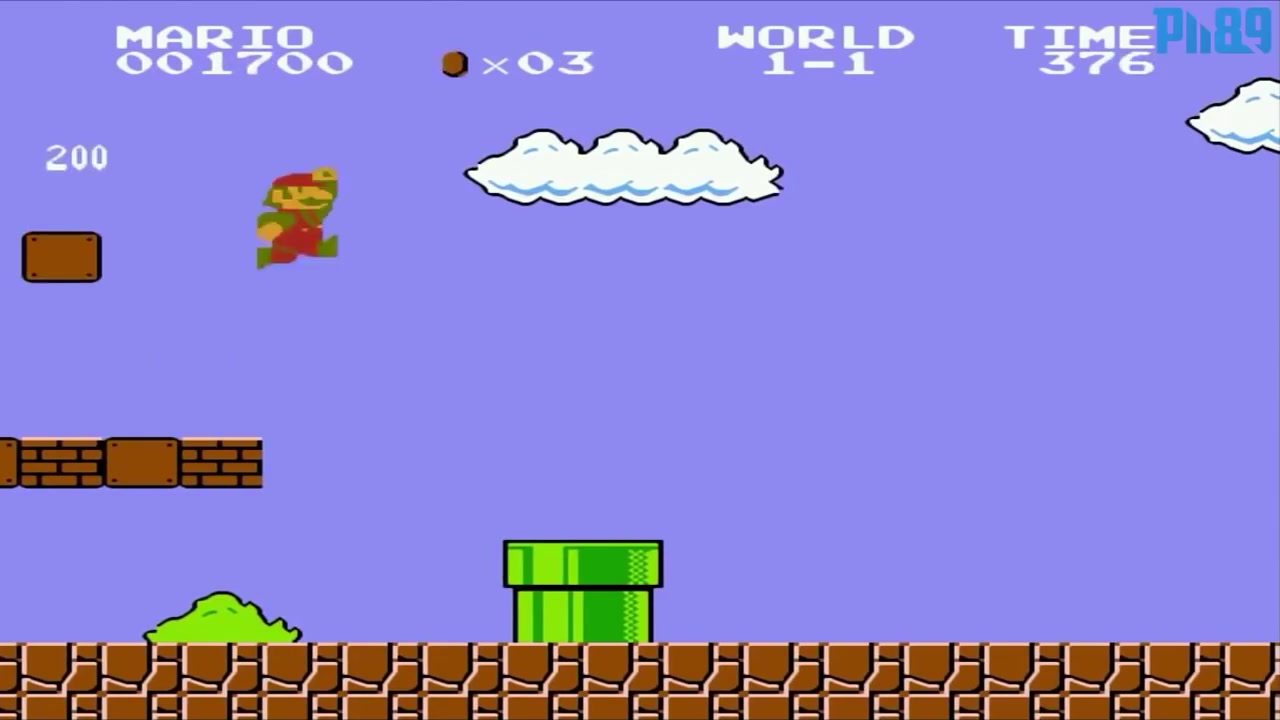mario: (247, 163, 344, 270)
